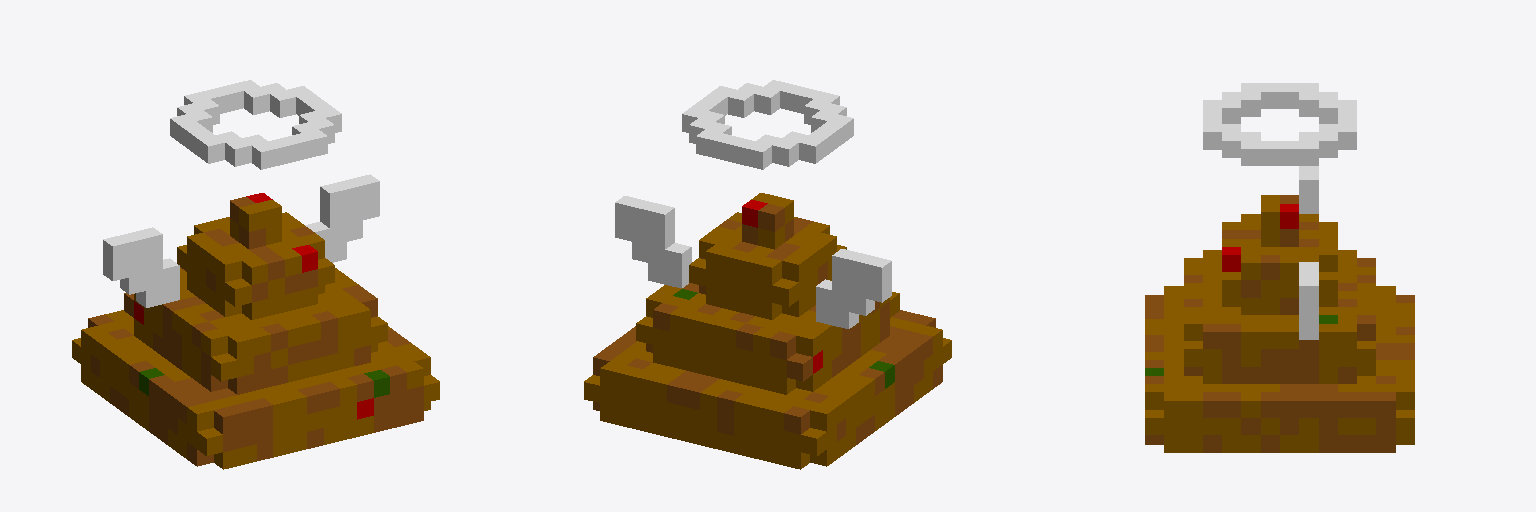
The picture shows the model from 3 angles: view 1: azimuth 30°, elevation 25°; view 2: azimuth 150°, elevation 25°; view 3: azimuth 270°, elevation 25°; orthographic projection.
Parts seen in each view (by area): view 1: object 1; view 2: object 1; view 3: object 1.
Part boxes in pixels (x1,y1,x2,y2): object 1: (72,80,439,469); object 1: (584,80,951,469); object 1: (1145,83,1414,452).
Size of the model in its own units: 1.6 by 1.6 by 1.4.
1 materials, 1 textured.